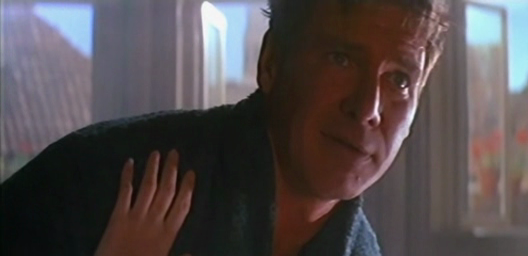cu: (1, 1, 528, 256)
face: (283, 28, 426, 196)
person: (1, 1, 460, 256)
